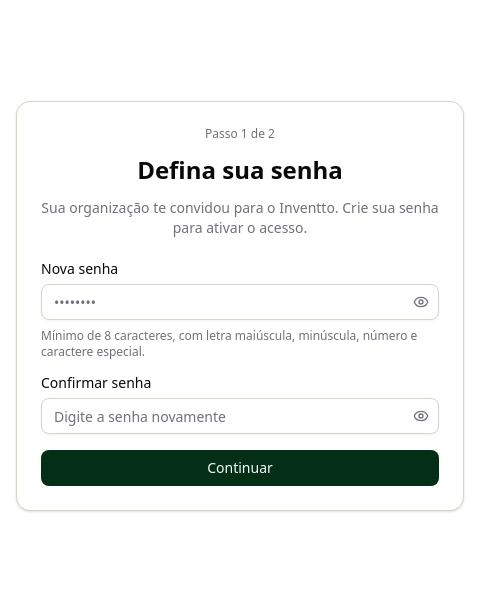
Scenario: FirstAccessPage › Passo 2 — verificação OTP › should return to P1 when back button is clicked
In the password field labelled "Nova senha": (240, 302) top-left (41, 284), bottom-right (439, 320), type "Senha@123!"
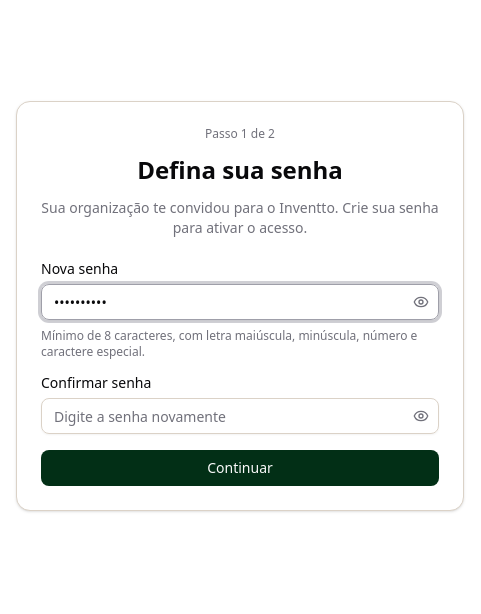
In the password field labelled "Confirmar senha": (240, 416) top-left (41, 398), bottom-right (439, 434), type "Senha@123!"
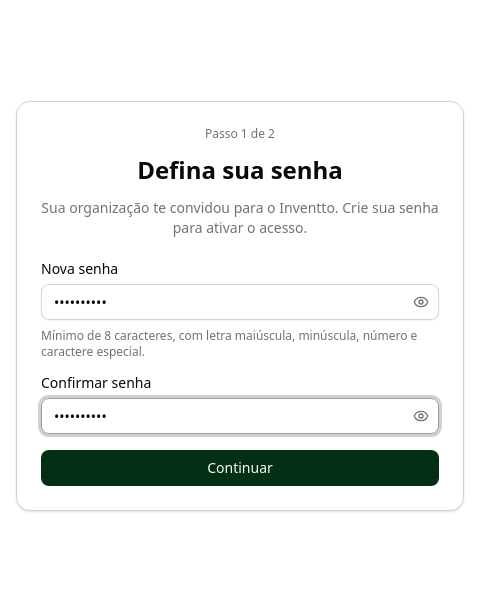
Click the button "Continuar": (240, 468) top-left (41, 450), bottom-right (439, 486)
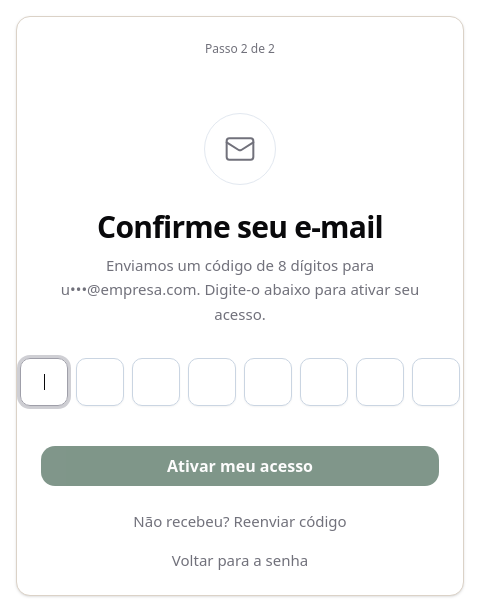
Now the heading "Confirme seu e-mail" is shown, box top-left (97, 209), bottom-right (383, 245)
Click the button "Voltar para a senha": (240, 560) top-left (172, 549), bottom-right (308, 571)
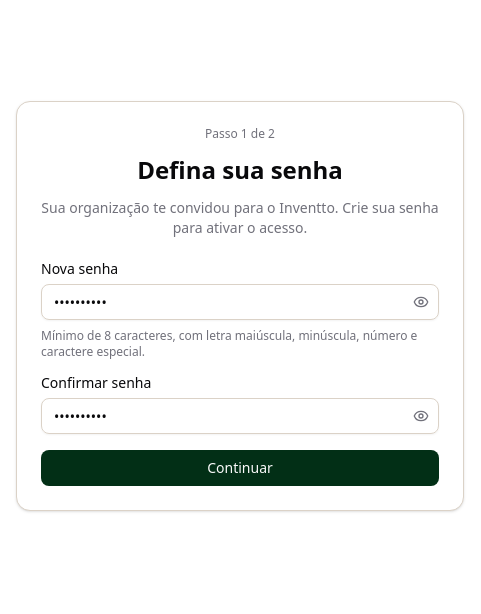
Now the text "Defina sua senha" is shown, box top-left (137, 153), bottom-right (343, 186)
Now the text "Passo 1 de 2" is shown, box top-left (205, 125), bottom-right (275, 142)
